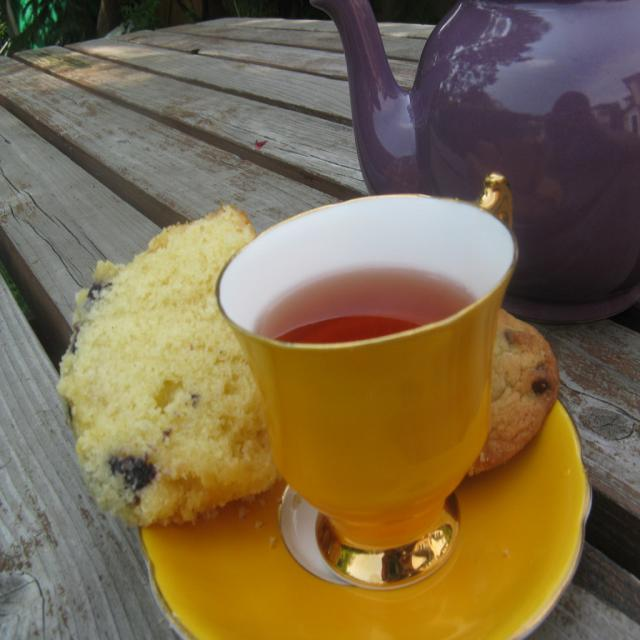Tea: (215, 186, 548, 575), (250, 268, 472, 343)
